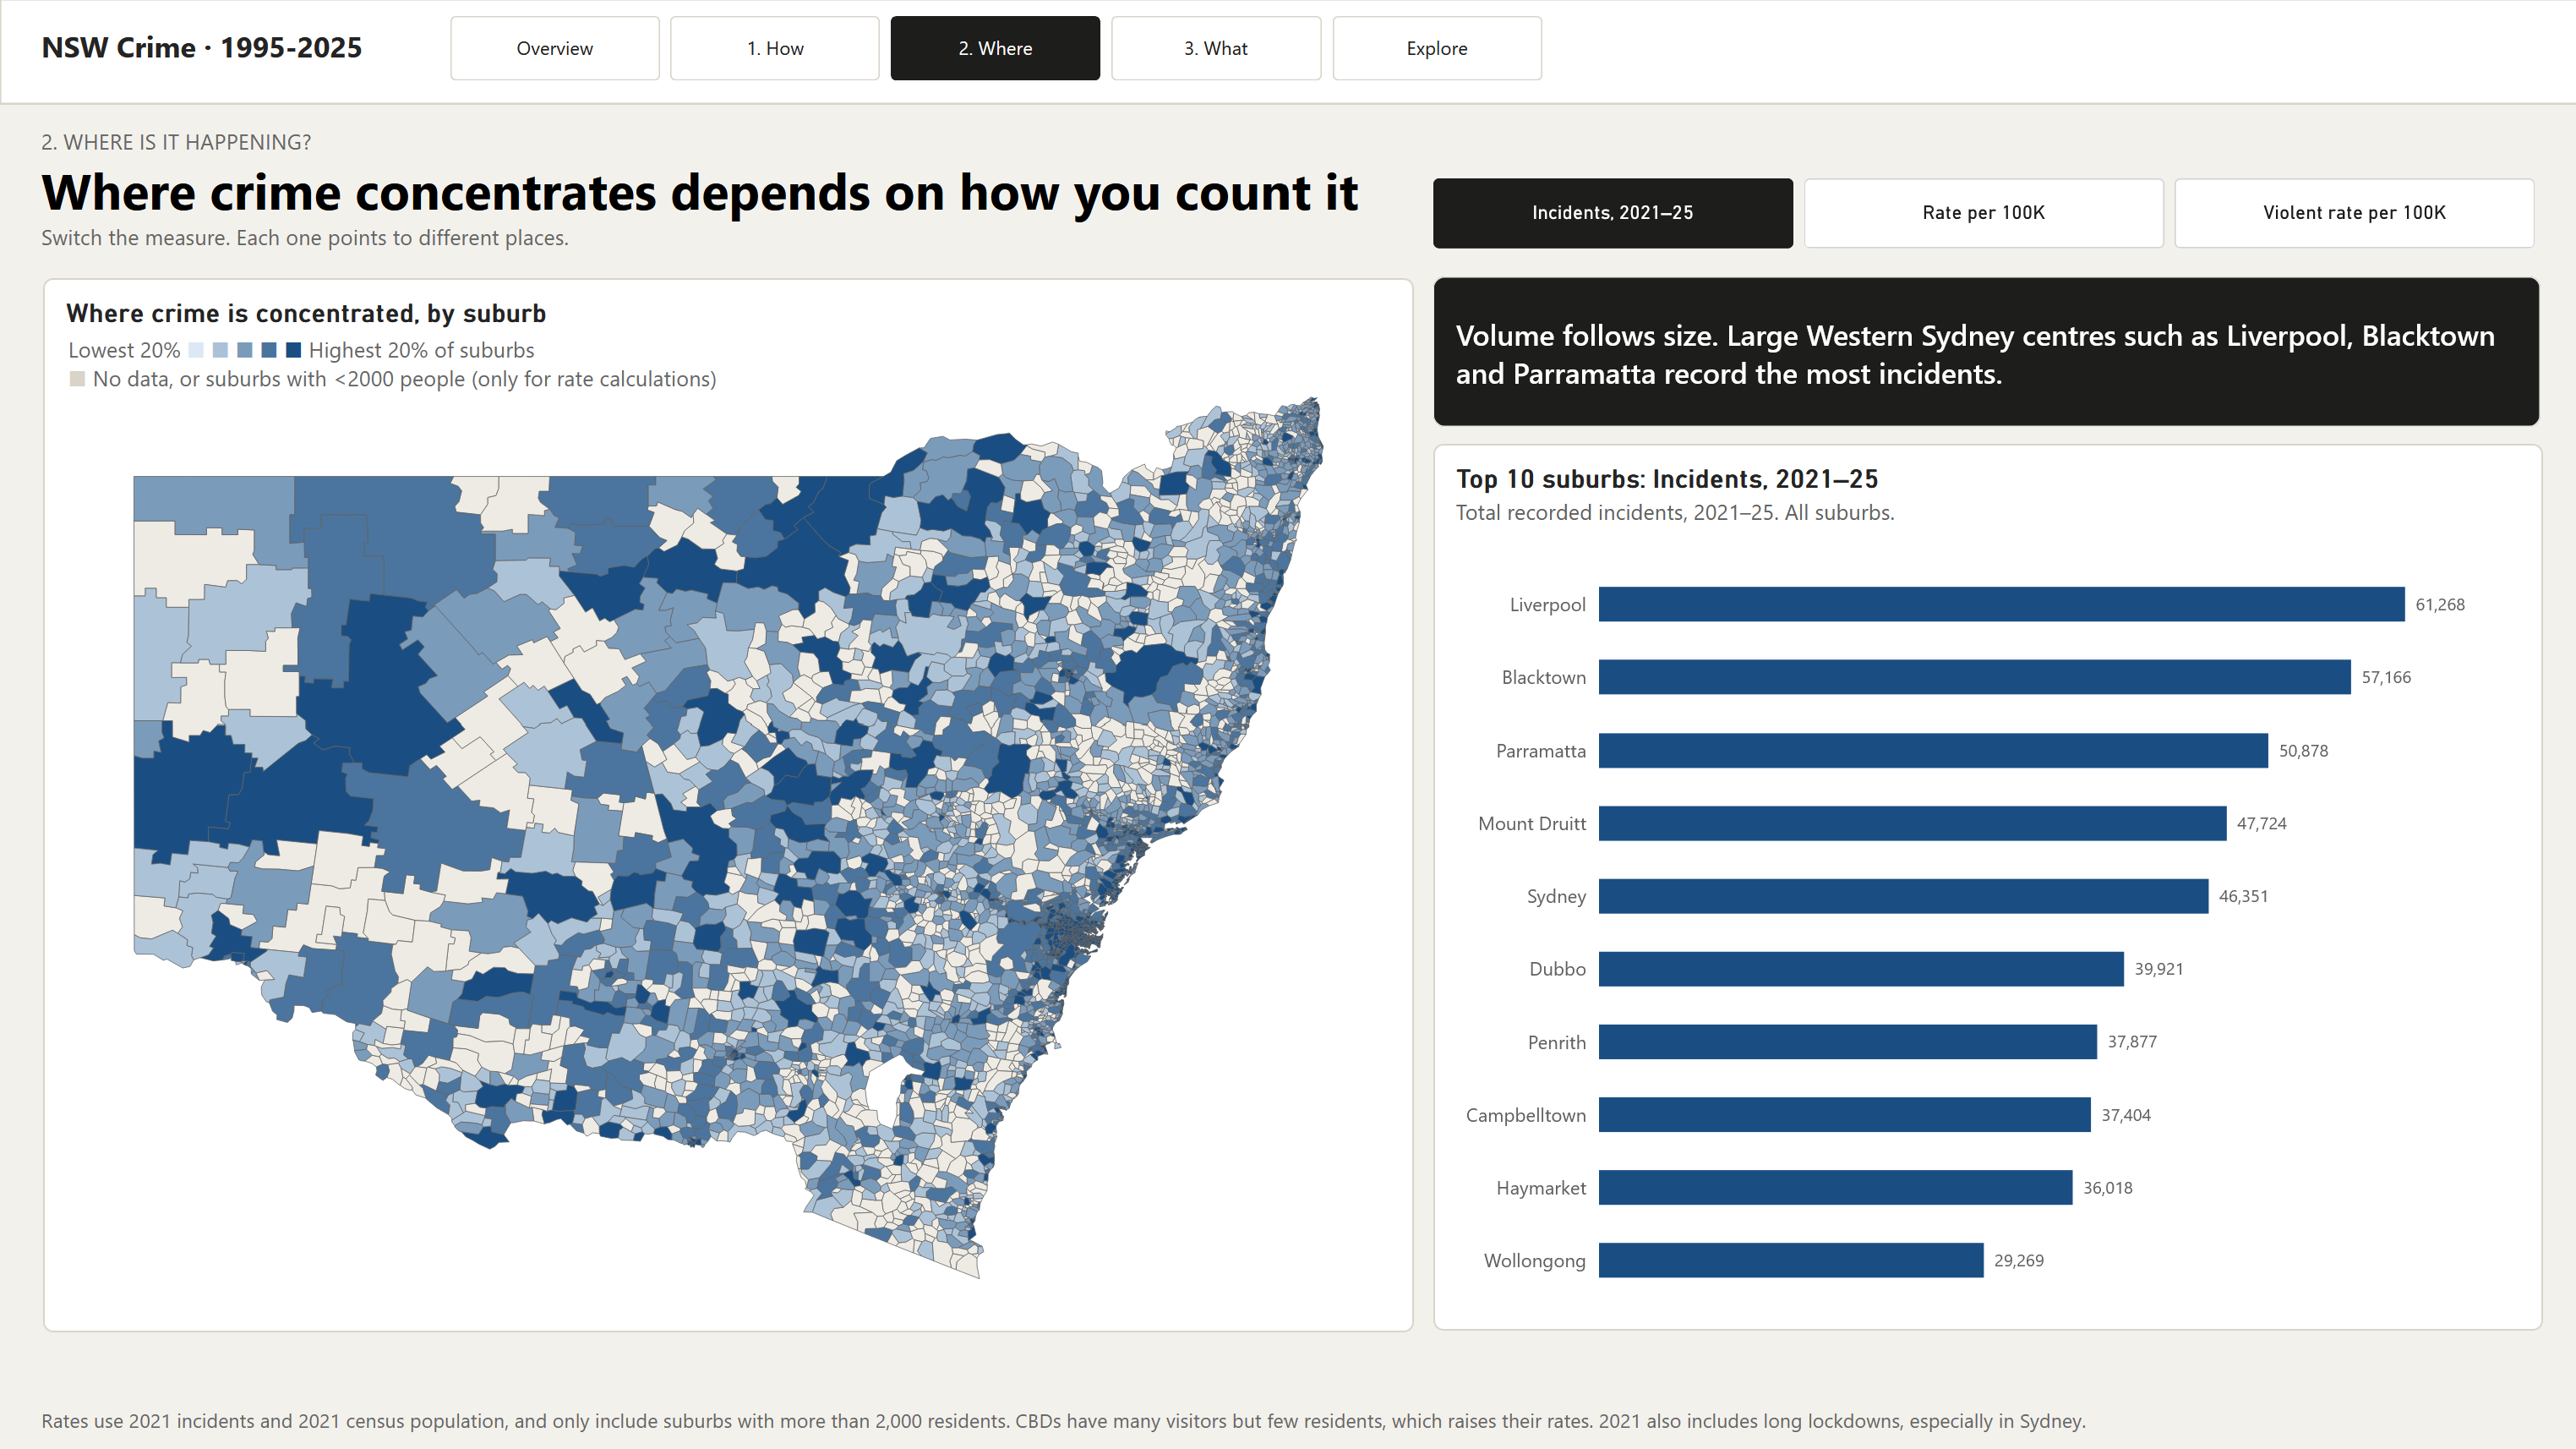

The page's visual inventory and layout, read from the dashboard file:
{"tool":"powerbi","page":{"name":"Suburb Analysis","canvas":[1920,1080],"ordinal":1},"visuals":[{"type":"textbox","box":[78.3,0,1552.3,65.5],"z":0},{"type":"slicer","fields":{"Values":["DateTable.Year"]},"box":[78.3,311.3,220,90],"z":1000},{"type":"slicer","fields":{"Values":["suburb_incidents.offence_category"]},"box":[78.3,415.1,220,90],"z":2000},{"type":"slicer","fields":{"Values":["suburb_incidents.subcategory"]},"box":[78.5,518.8,220,90],"z":3000},{"type":"clusteredBarChart","title":"Offence Category by Incident Count","fields":{"Category":["suburb_incidents.offence_category"],"Y":["Sum(suburb_incidents.incident_count)"]},"box":[77.9,617.7,681,462],"z":4000},{"type":"pivotTable","fields":{"Rows":["suburb_incidents.suburb"],"Columns":["suburb_incidents.offence_category"],"Values":["Sum(suburb_incidents.incident_count)"]},"box":[772.2,618.7,858.5,462],"z":5000},{"type":"textSlicer","fields":{"Values":["census.sal_name"]},"box":[78.5,76.9,219.4,116.9],"z":6000},{"type":"shapeMap","title":"Incident Map","fields":{"Category":["census.sal_code"],"Value":["Sum(suburb_incidents.incident_count)"]},"box":[311.7,76.5,1319,531.5],"z":7000},{"type":"slicer","fields":{"Values":["DateTable.Month Name"]},"box":[78.5,207.5,220,90],"z":8000}]}

Visuals, with their boxes in screenshot pixels (x1, y1, x2, y2), scaled from the page's 1920x1080 canvas onto the 2576x1449 screenshot:
textbox: (105,0,2188,88)
slicer - DateTable.Year: (105,418,401,539)
slicer - suburb_incidents.offence_category: (105,557,401,678)
slicer - suburb_incidents.subcategory: (106,696,401,817)
"Offence Category by Incident Count" clusteredBarChart: (105,828,1018,1448)
pivotTable - suburb_incidents.suburb x suburb_incidents.offence_category: (1036,830,2188,1448)
textSlicer - census.sal_name: (106,103,400,260)
"Incident Map" shapeMap: (418,102,2188,816)
slicer - DateTable.Month Name: (106,278,401,399)
